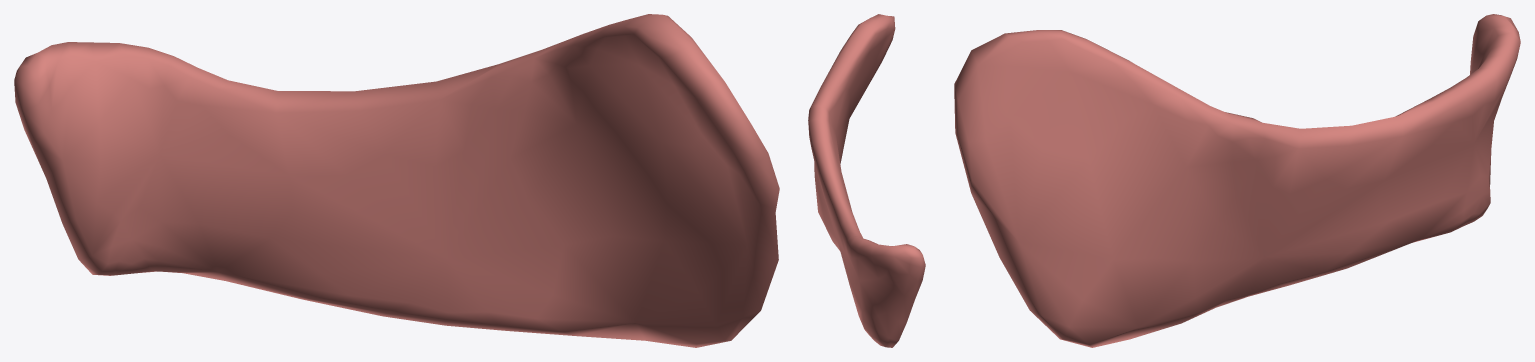
The picture shows the model from 3 angles, left to right: view 1: azimuth 30°, elevation 25°; view 2: azimuth 150°, elevation 25°; view 3: azimuth 270°, elevation 25°; orthographic projection. The views are drawn at different scales.
Parts seen in each view (by area): view 1: ZA_c681d78f6ed2fb69; view 2: ZA_c681d78f6ed2fb69; view 3: ZA_c681d78f6ed2fb69.
Part boxes in pixels (x1=…): ZA_c681d78f6ed2fb69: x1=14, y1=14, x2=779, y2=347; ZA_c681d78f6ed2fb69: x1=808, y1=14, x2=925, y2=347; ZA_c681d78f6ed2fb69: x1=954, y1=14, x2=1520, y2=347.
Size of the model in its own units: 0.00623 by 0.00473 by 0.008.
